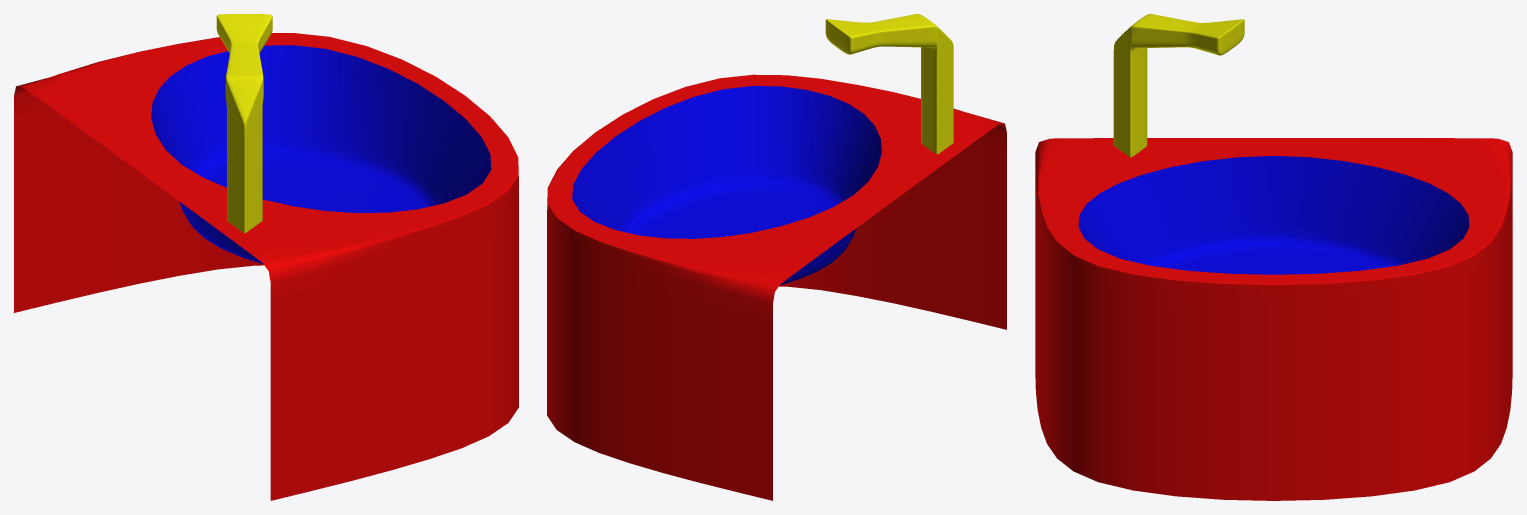
File: Waschbecken_2_high.fbx
3 views of the same model, side by side, from view 1: azimuth 30°, elevation 25°; view 2: azimuth 150°, elevation 25°; view 3: azimuth 270°, elevation 25° (orthographic). The views are drawn at different scales.
Visible parts, largest first — view 1: Waschbecken_2_high; view 2: Waschbecken_2_high; view 3: Waschbecken_2_high.
Part boxes in pixels (left/top/right/bottom): Waschbecken_2_high: left=14, top=14, right=518, bottom=500; Waschbecken_2_high: left=547, top=14, right=1006, bottom=500; Waschbecken_2_high: left=1035, top=14, right=1512, bottom=500.
Size of the model in its own units: 0.7273 by 0.8379 by 1.
